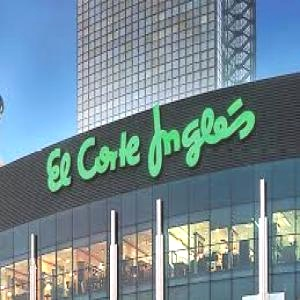corte_ingles: (44, 111, 300, 195)
